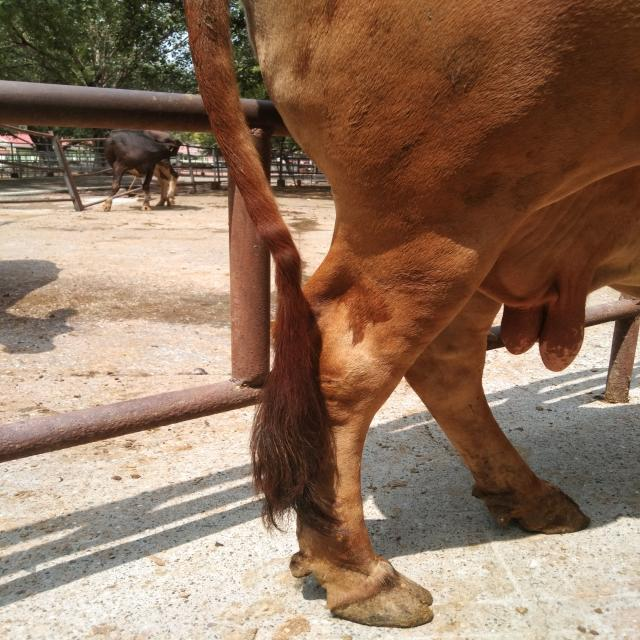Hoof: (288, 550, 434, 628), (471, 479, 591, 535)
